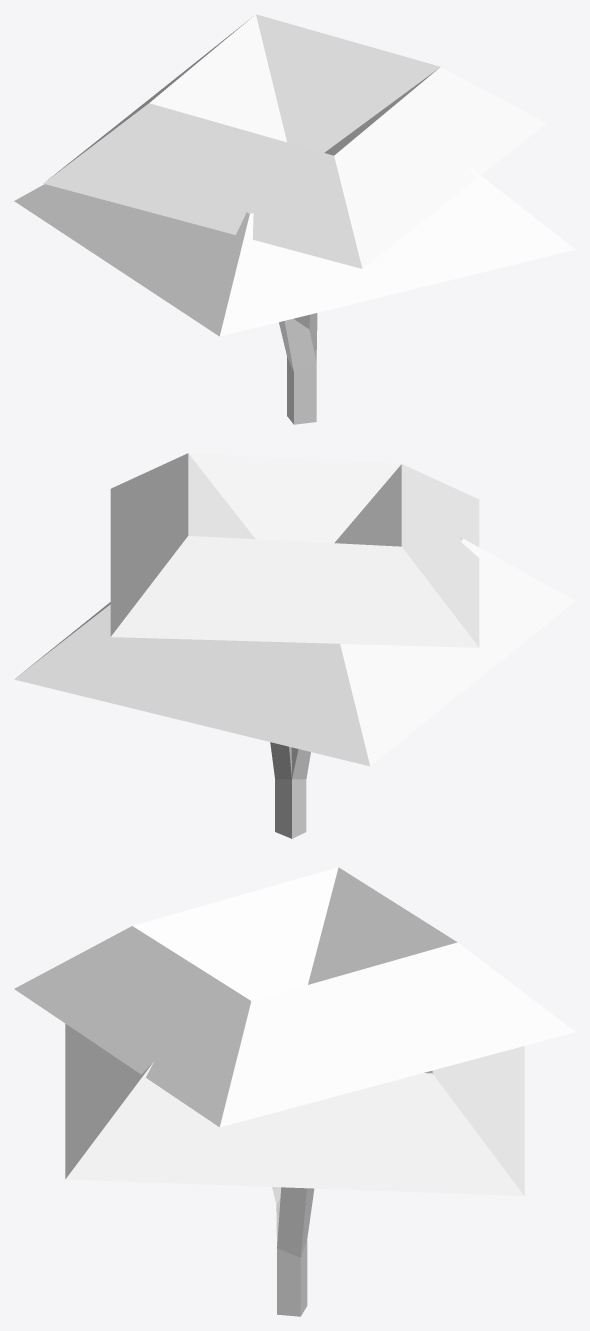
The model's file is SM_Prop_Carrot_01_M.glb.
3 renders of one model, top to bottom at view 1: azimuth 30°, elevation 25°; view 2: azimuth 150°, elevation 25°; view 3: azimuth 270°, elevation 25°, orthographic. The views are drawn at different scales.
Parts seen in each view (by area): view 1: SM_Prop_Carrot_01_M; view 2: SM_Prop_Carrot_01_M; view 3: SM_Prop_Carrot_01_M.
Part boxes in pixels (left/top/right/bottom): SM_Prop_Carrot_01_M: left=14, top=14, right=575, bottom=424; SM_Prop_Carrot_01_M: left=14, top=453, right=575, bottom=838; SM_Prop_Carrot_01_M: left=14, top=867, right=575, bottom=1316.
Bounding box in the file's own units: 0.4402 × 0.3313 × 0.4402.
2 materials, 1 textured.
